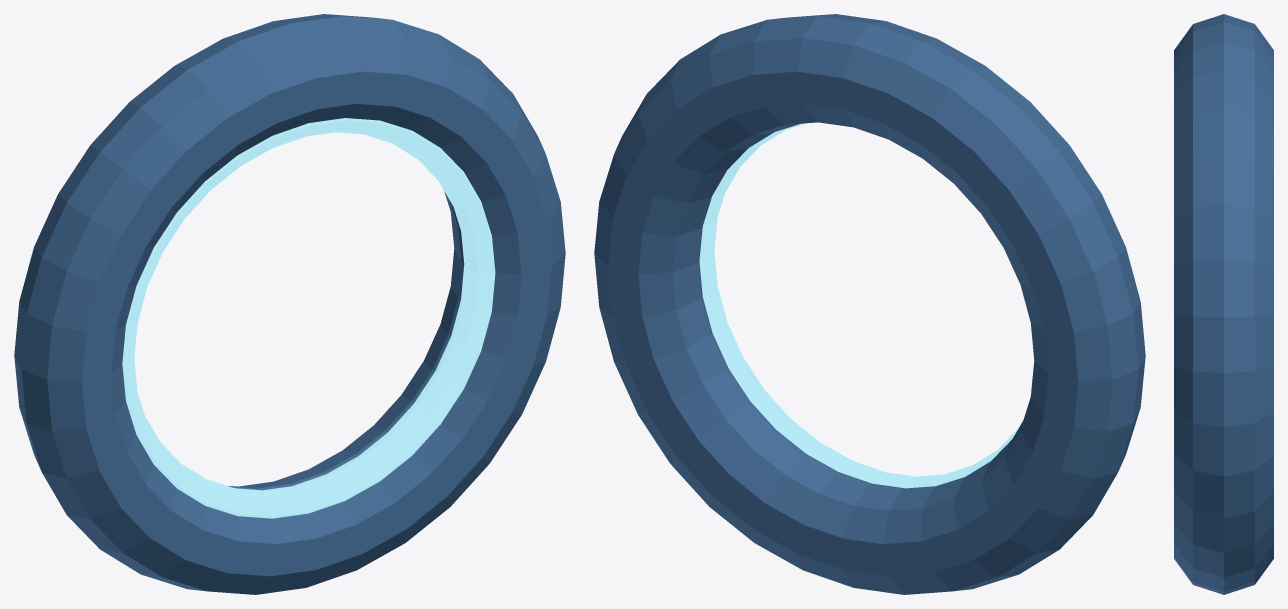
Rendered from afterburner_ring.glb.
The picture shows the model from 3 angles, left to right: view 1: azimuth 30°, elevation 25°; view 2: azimuth 150°, elevation 25°; view 3: azimuth 270°, elevation 25°; orthographic projection. The views are drawn at different scales.
Parts seen in each view (by area): view 1: afterburner_ring; view 2: afterburner_ring; view 3: afterburner_ring.
Part boxes in pixels (x1,y1,x2,y2): afterburner_ring: (14, 14, 565, 594); afterburner_ring: (594, 14, 1145, 594); afterburner_ring: (1174, 14, 1273, 594).
Bounding box in the file's own units: 0.83 × 0.83 × 0.1427.
